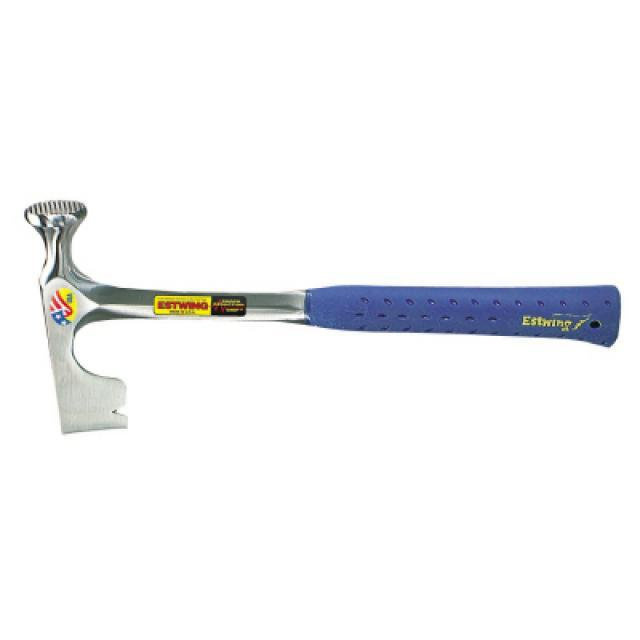hammer: (5, 186, 626, 467)
